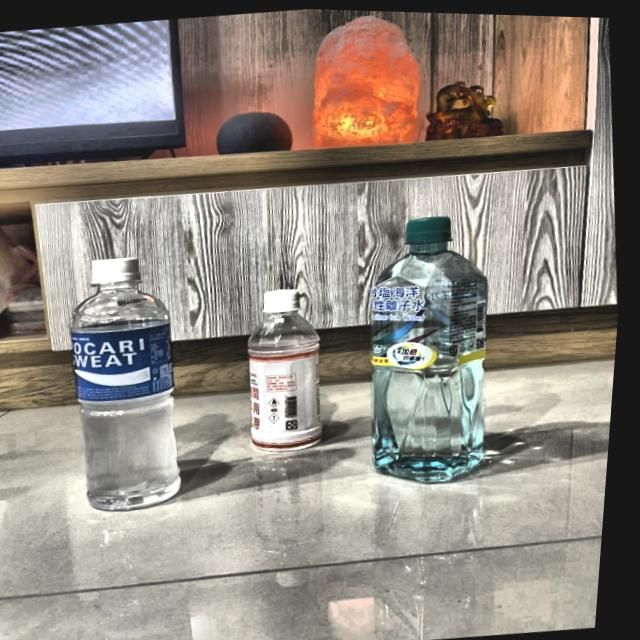Bottles: (289, 159, 560, 520), (17, 227, 225, 534), (200, 252, 357, 478)
